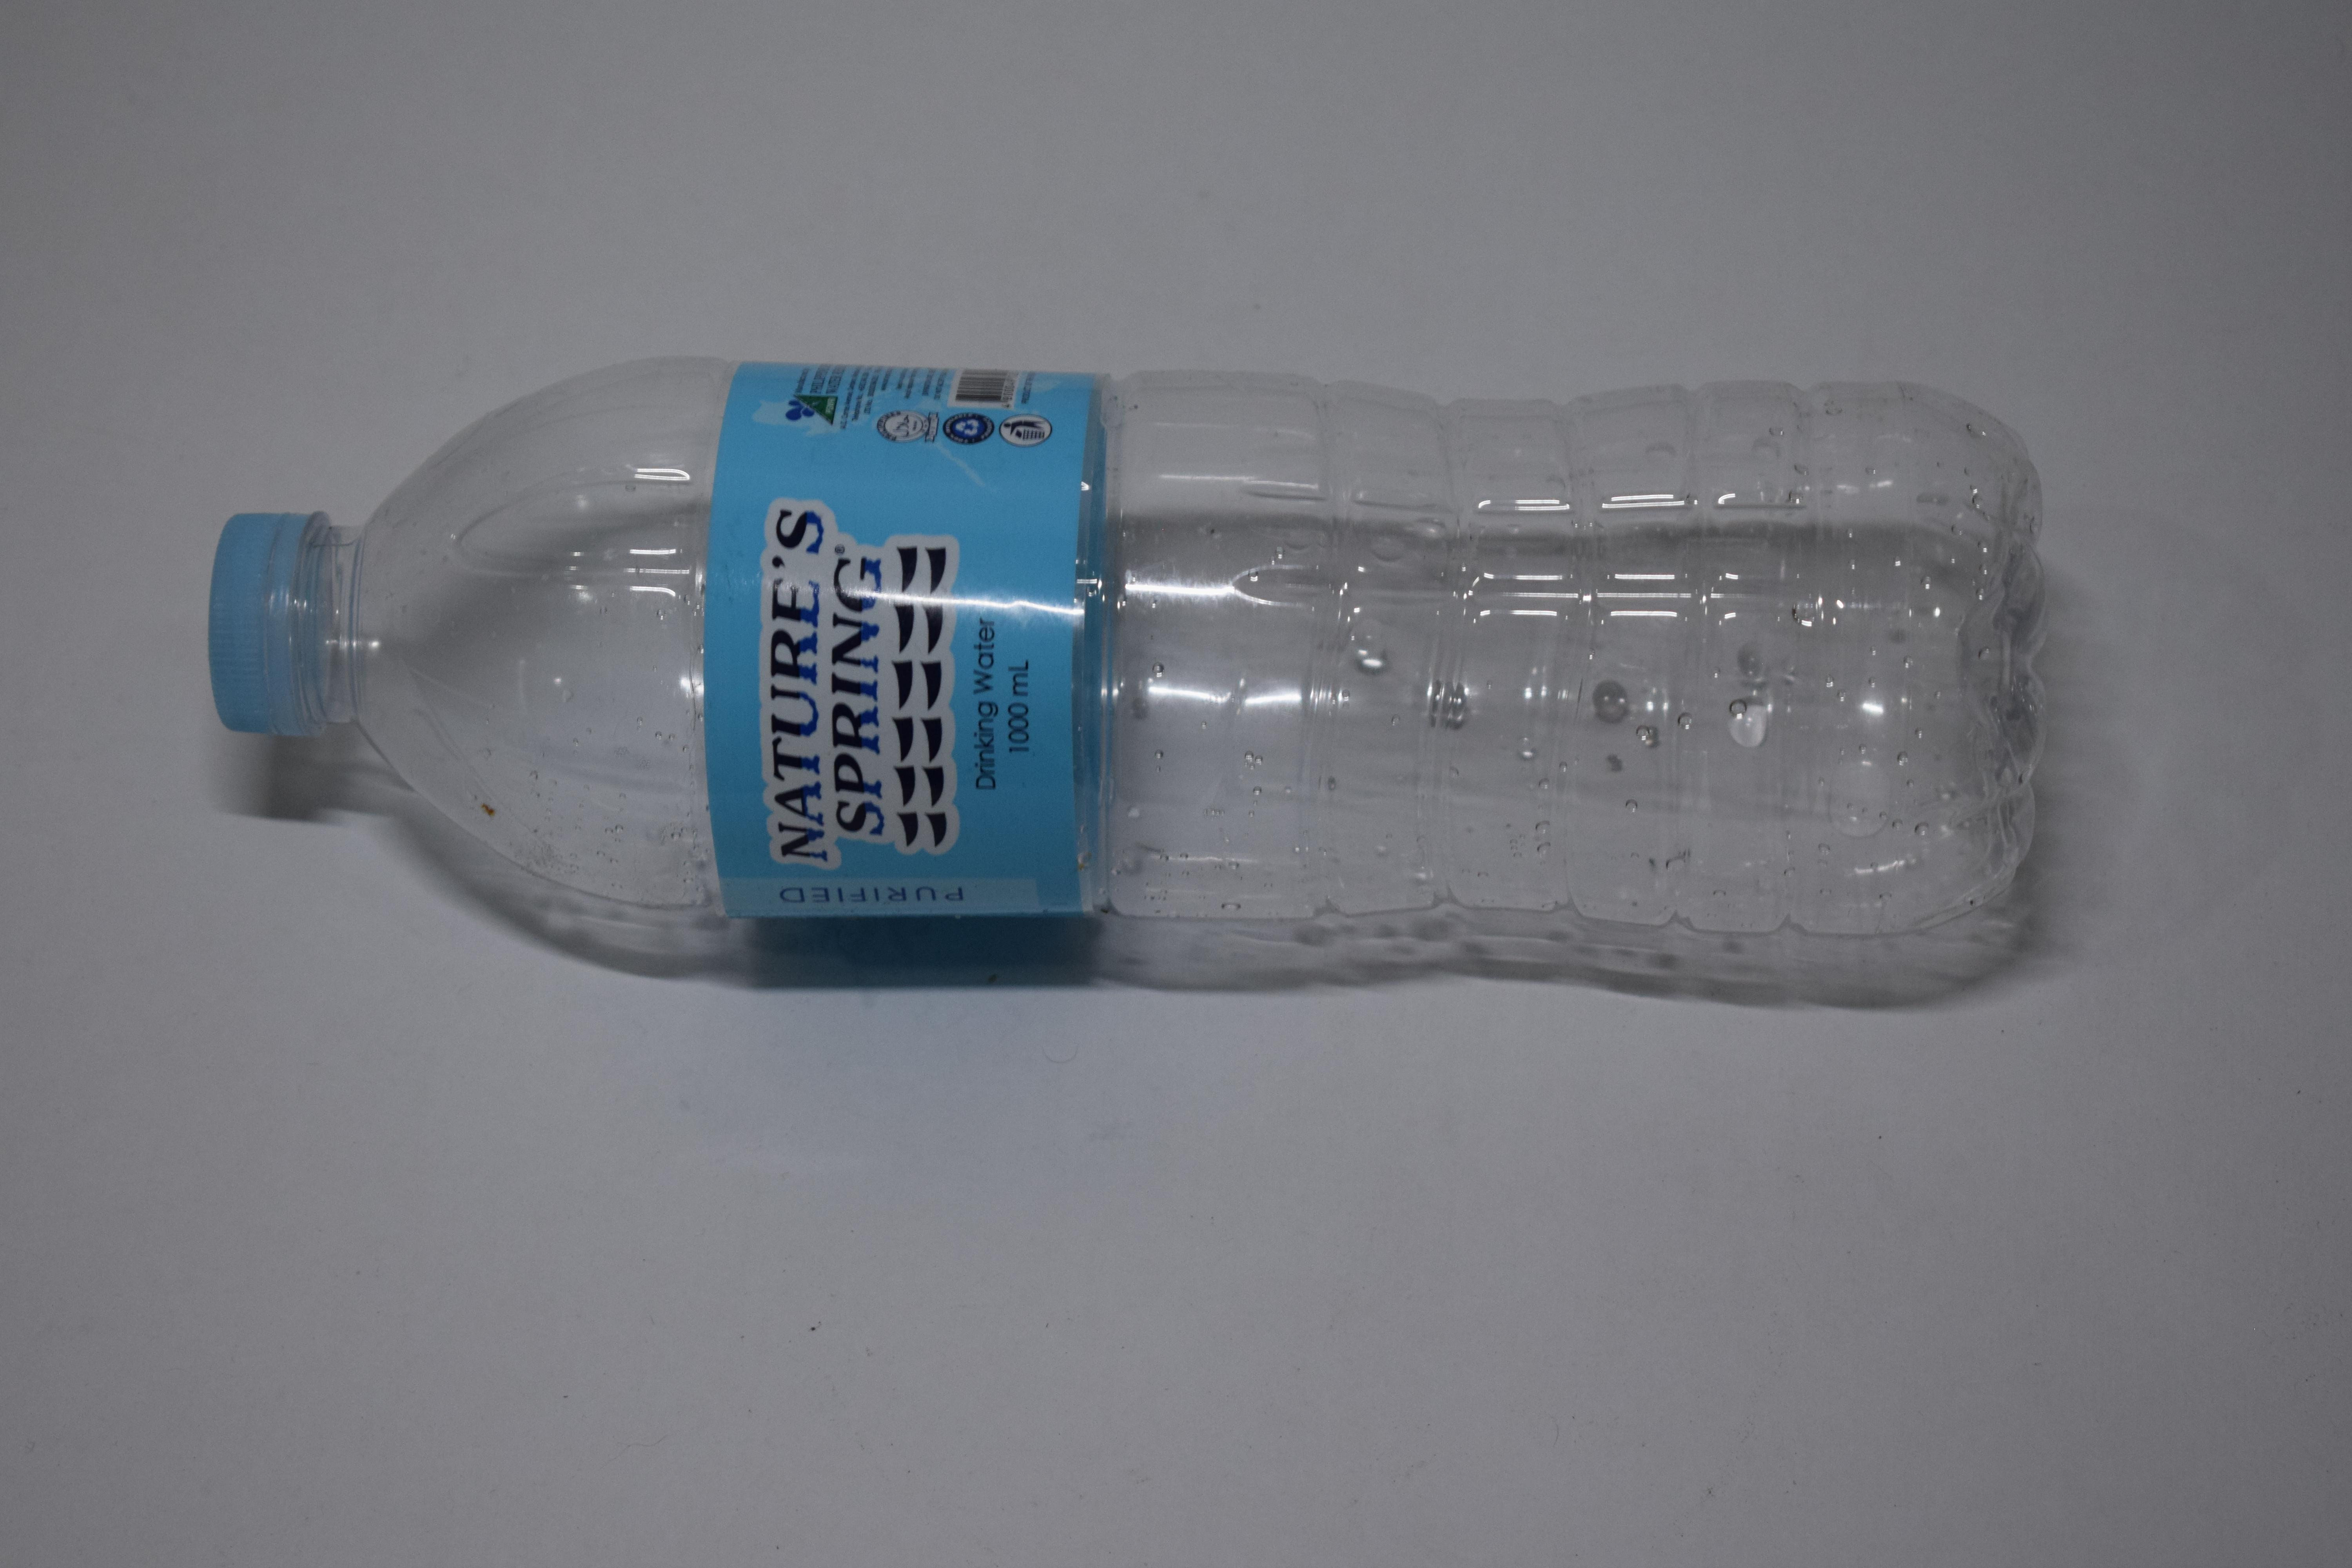bottle: (199, 338, 2065, 1006)
